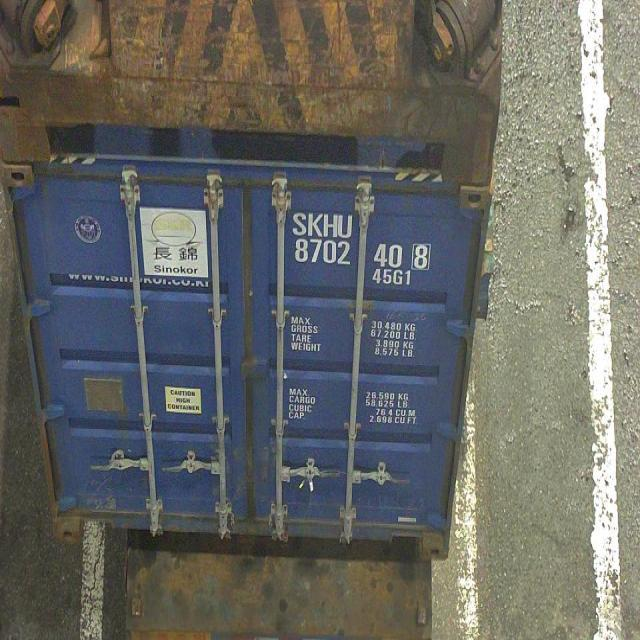ISO: (374, 270, 409, 288)
container_number: (288, 209, 436, 268)
